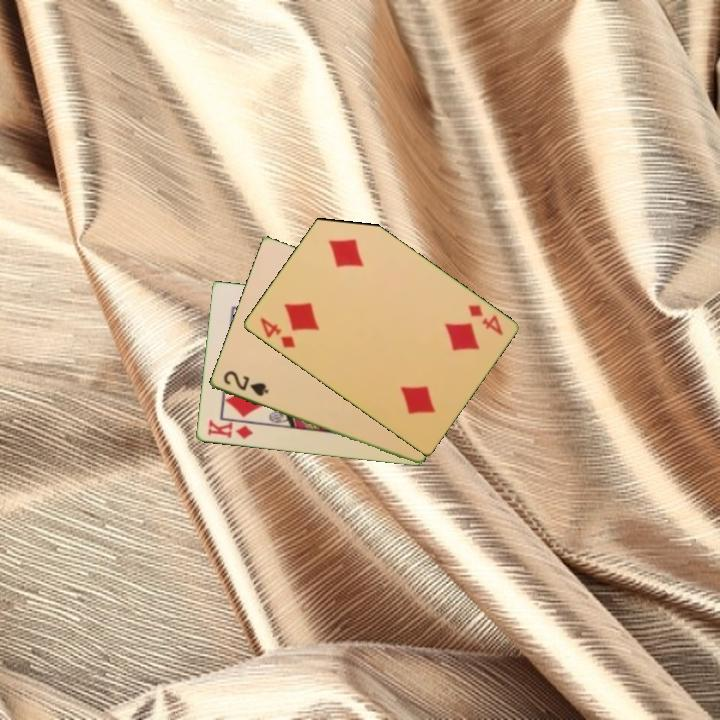2s: (219, 367, 271, 399)
4d: (256, 313, 298, 351), (464, 301, 506, 338)
Kd: (204, 417, 256, 442)
